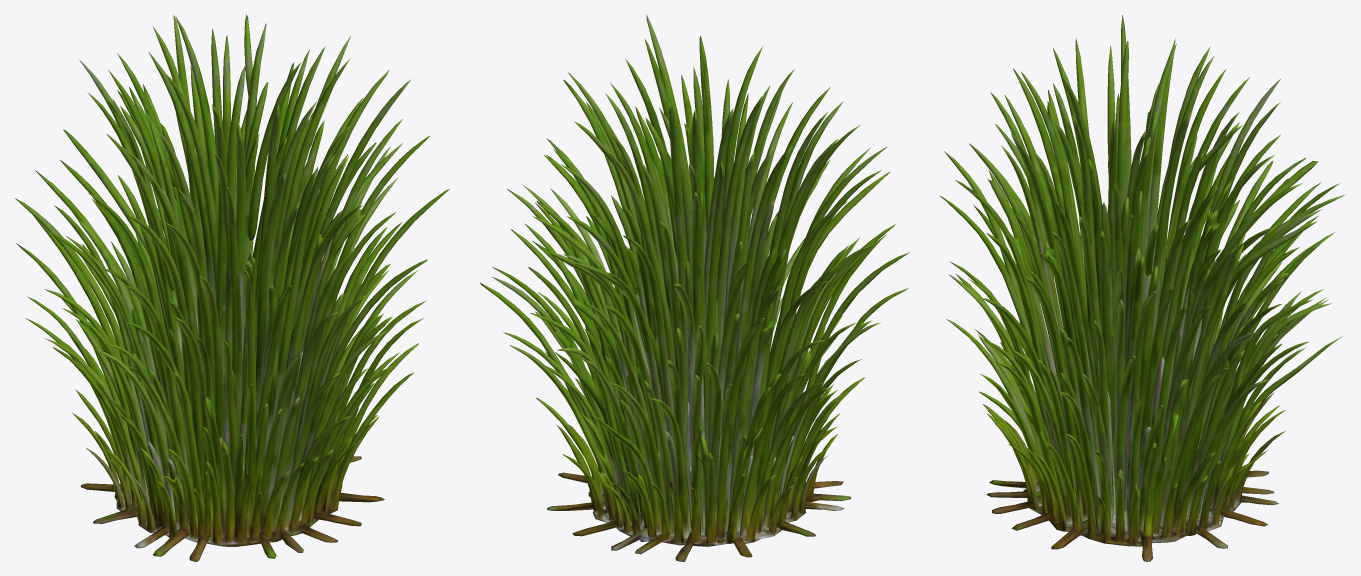
Rendered from swampgrass.glb.
3 renders of one model, left to right at view 1: azimuth 30°, elevation 25°; view 2: azimuth 150°, elevation 25°; view 3: azimuth 270°, elevation 25°, orthographic. The views are drawn at different scales.
Parts seen in each view (by area): view 1: node_0; view 2: node_0; view 3: node_0.
Part boxes in pixels (x1=…): node_0: x1=15, y1=14, x2=449, y2=561; node_0: x1=480, y1=14, x2=909, y2=561; node_0: x1=940, y1=15, x2=1345, y2=561.
Size of the model in its own units: 0.8257 by 0.9967 by 0.8419.
Materials: 1 (1 with a texture image).
